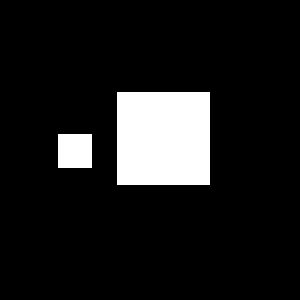circle: (117, 92, 210, 185), (58, 134, 92, 168)
